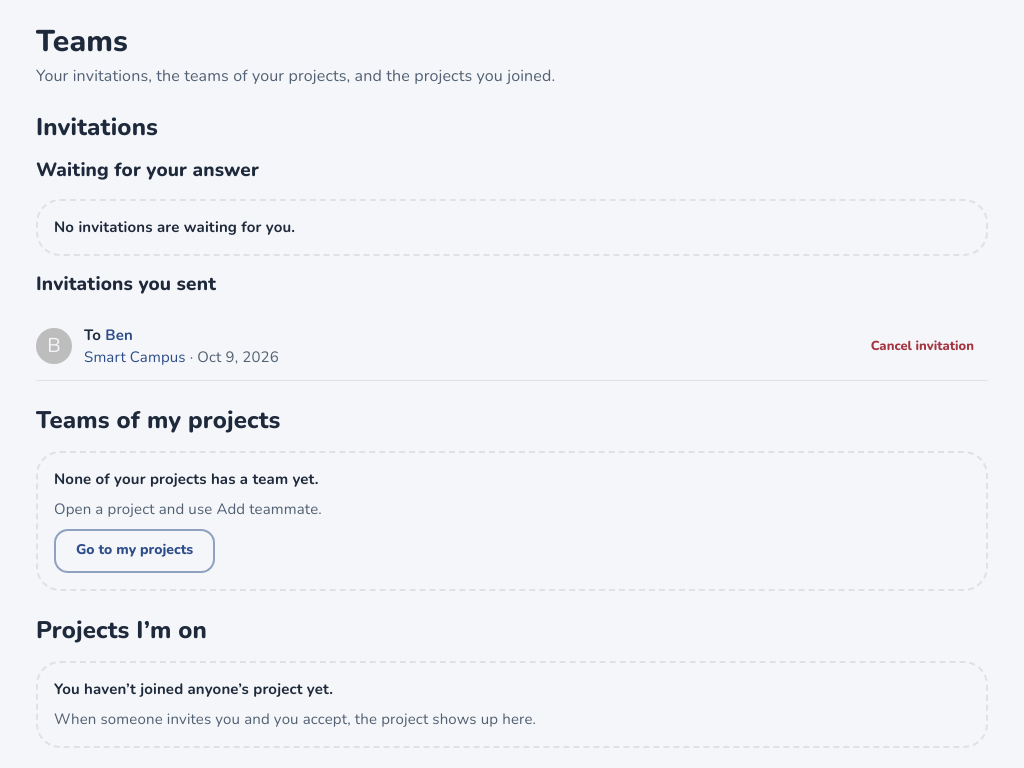
Test: outgoing invitations › keeps the confirmation open with the reason when the API refuses
The image size is (1024, 768).
Click the button with aria-label "Cancel the invitation to Ben" at (922, 346), box [857,324,988,368]
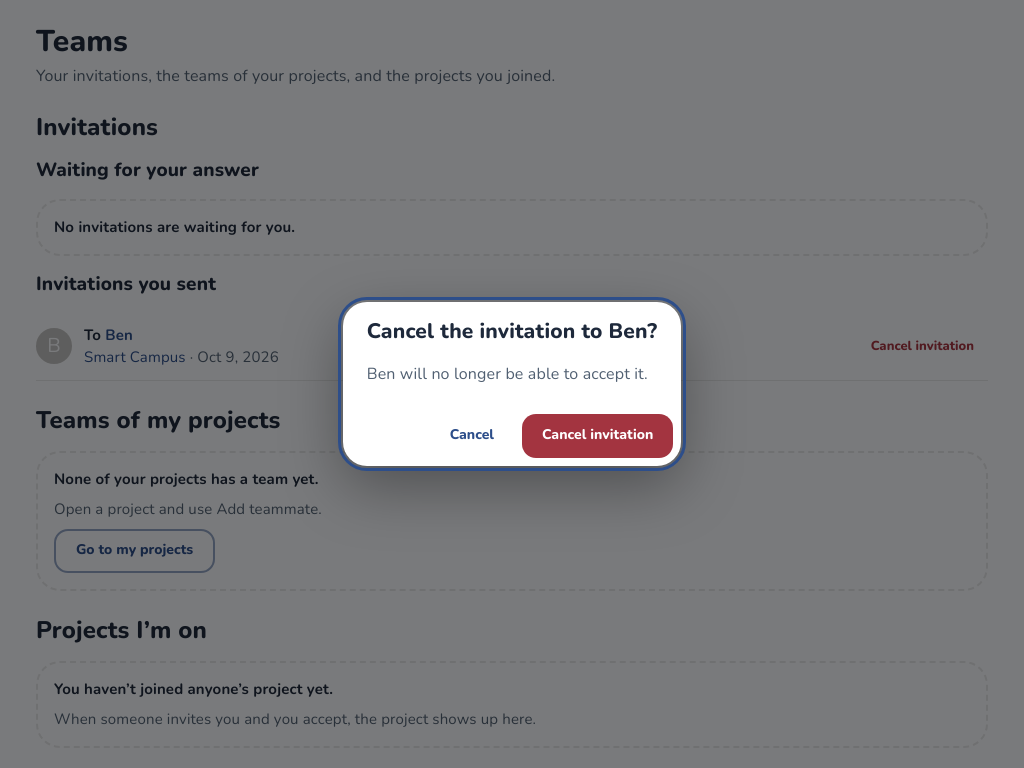
Click the button "Cancel invitation" at (598, 436), box [522,414,673,458]
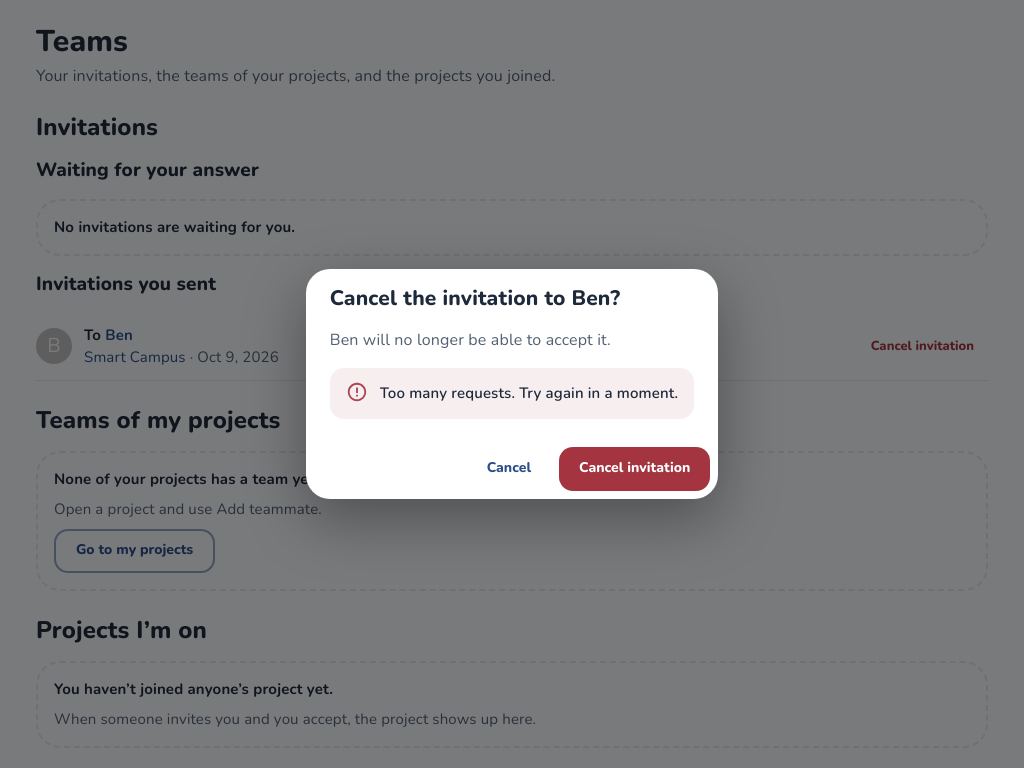
expect the message shows "Too many requests": met, box [380,383,678,403]
